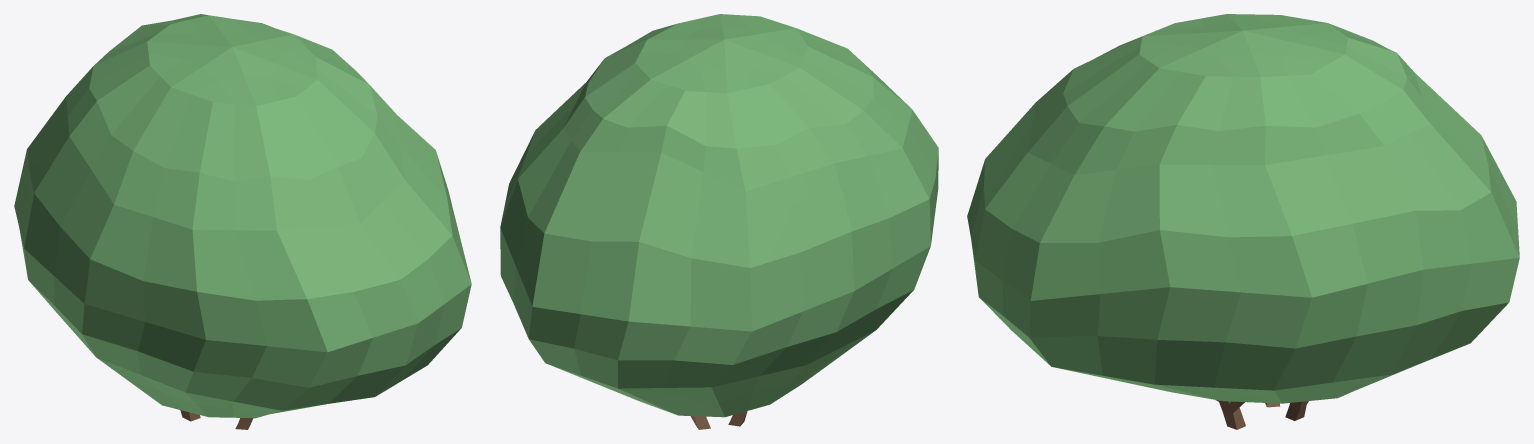
The model's file is Bushes_bush_03.001.fbx.
3 views of the same model, side by side, from view 1: azimuth 30°, elevation 25°; view 2: azimuth 150°, elevation 25°; view 3: azimuth 270°, elevation 25° (orthographic). The views are drawn at different scales.
Visible parts, largest first — view 1: Bushes_bush_03.001; view 2: Bushes_bush_03.001; view 3: Bushes_bush_03.001.
Part boxes in pixels (x1,y1,x2,y2): Bushes_bush_03.001: (14, 14, 471, 429); Bushes_bush_03.001: (500, 14, 938, 429); Bushes_bush_03.001: (967, 14, 1519, 429).
Size of the model in its own units: 127 by 126 by 161.
